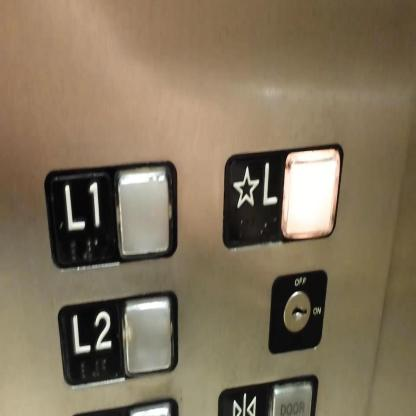L1: (42, 156, 180, 275)
L2: (56, 286, 180, 392)
keyhole: (266, 262, 329, 356)
sL: (220, 140, 344, 253)
